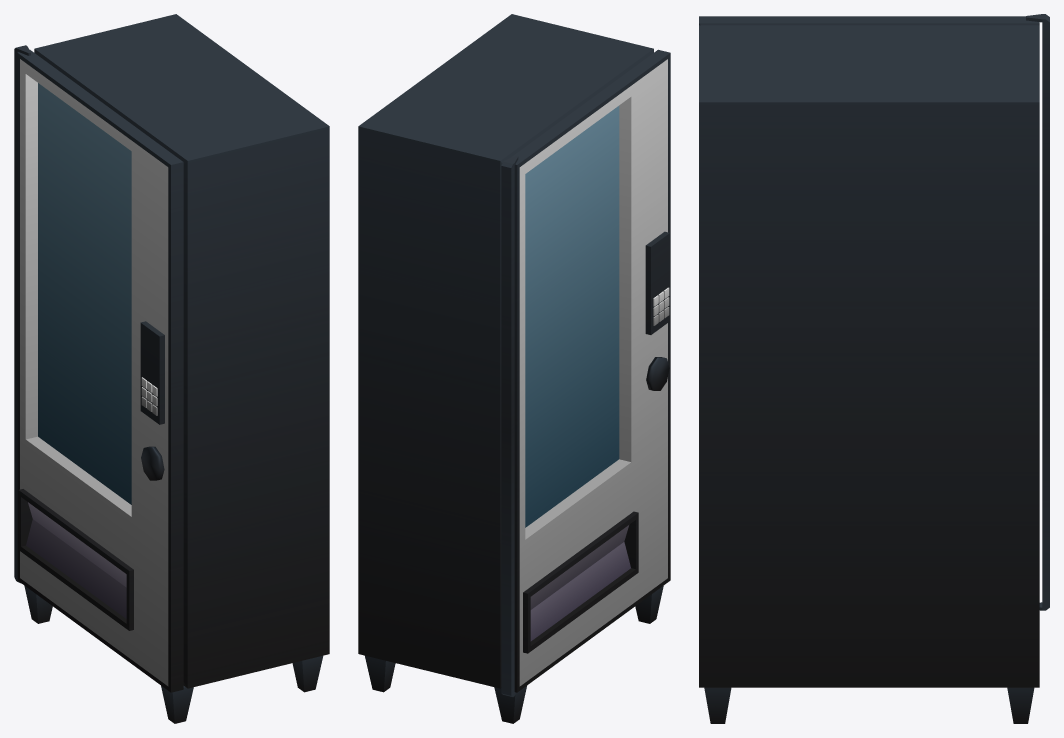
File: VendingMahine.fbx
The picture shows the model from 3 angles, left to right: view 1: azimuth 30°, elevation 25°; view 2: azimuth 150°, elevation 25°; view 3: azimuth 270°, elevation 25°; orthographic projection. The views are drawn at different scales.
Visible parts, largest first — view 1: Cube.112; view 2: Cube.112; view 3: Cube.112.
Boxes of the visible parts, bbox=[...] form: Cube.112: bbox=[14, 14, 329, 723]; Cube.112: bbox=[358, 14, 670, 723]; Cube.112: bbox=[699, 14, 1049, 723].
Size of the model in its own units: 65.6 by 215 by 109.
Materials: 1 (1 with a texture image).
